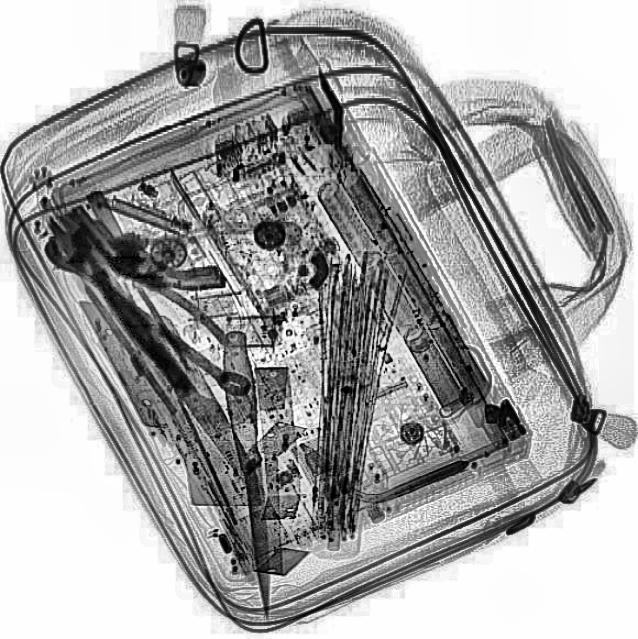Gun: (68, 166, 230, 328)
Knife: (81, 260, 294, 518), (220, 330, 280, 619)
Wrench: (34, 217, 264, 404)
